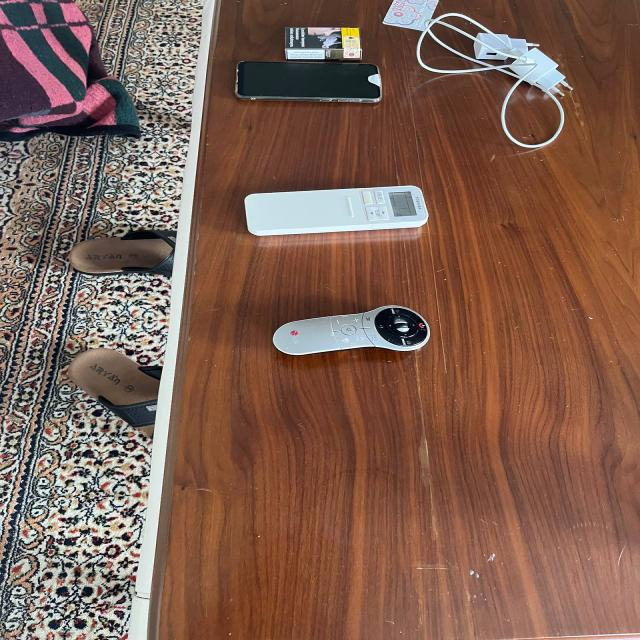remote: (230, 180, 459, 250), (247, 302, 446, 366)
